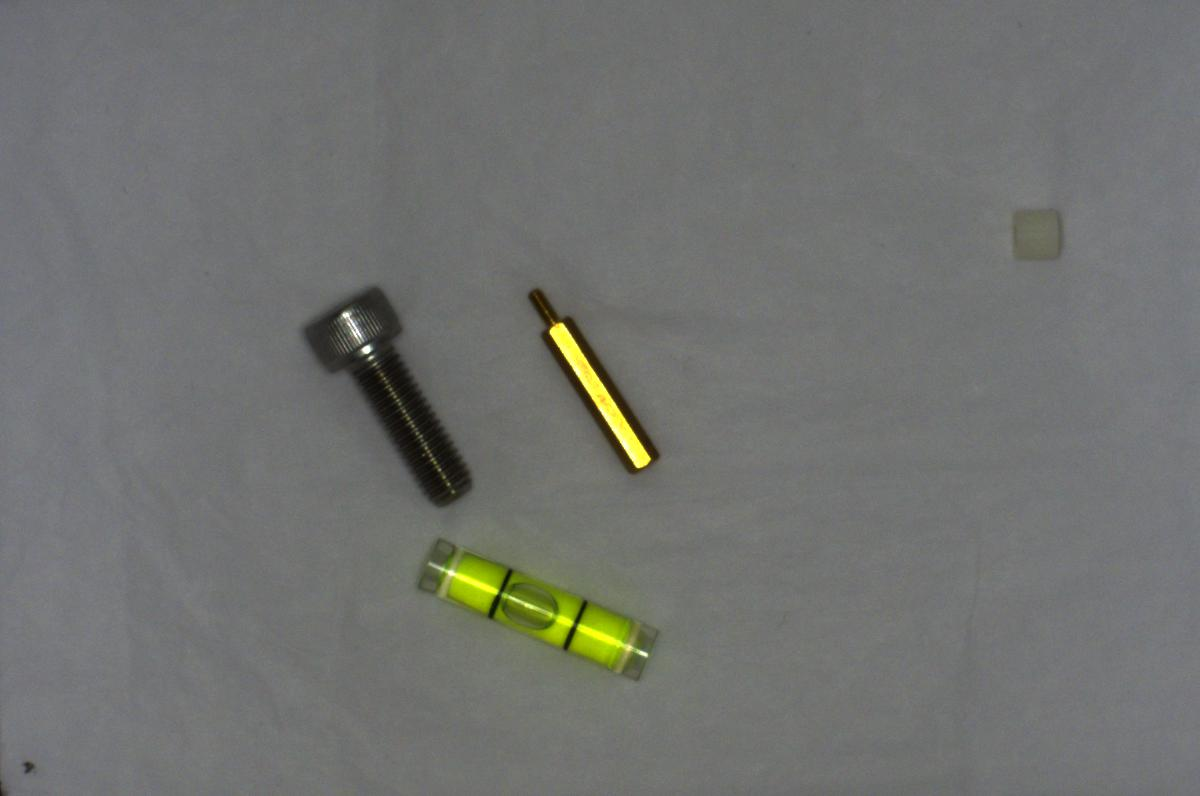Hexagon pillar: (524, 282, 659, 479)
Hexagon screw: (302, 279, 474, 506)
Horizontal bubble: (404, 533, 670, 687)
Plastic cushion pillar: (999, 195, 1075, 270)
